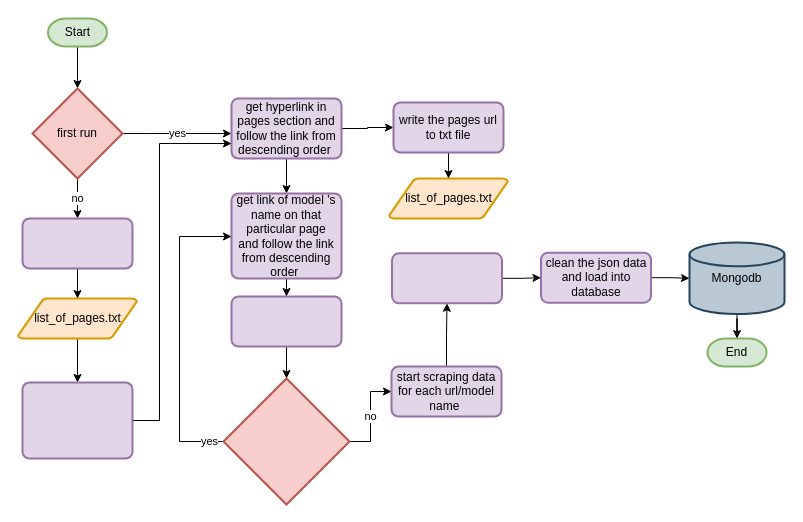
Image size: 803x522. Some labels were removed from this diagram. The centre of each missing label's shape, as x and y in pixels:
compare url: point (286, 321)
get last scraped link url from txt file: point (77, 243)
transforms into structured json file: point (446, 278)
url of phone model are already exist in mongodb?: point (286, 441)
use last url as starting point to begin scarping: point (77, 420)
